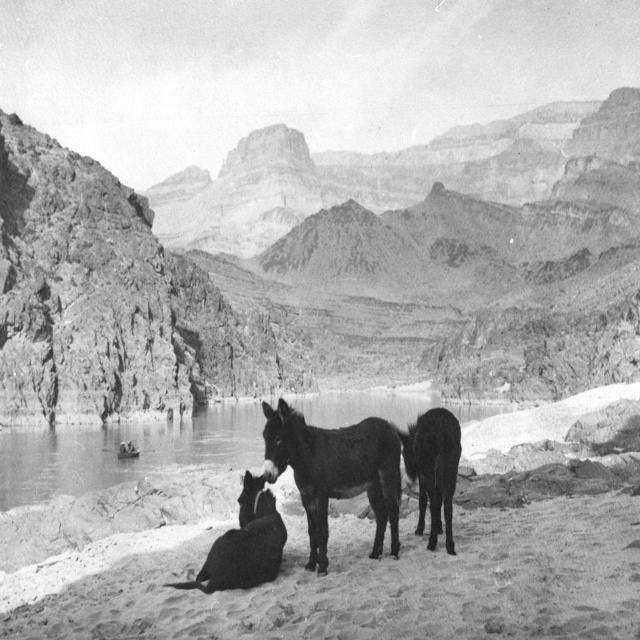Mule: (247, 403, 418, 570), (163, 470, 289, 591), (402, 407, 457, 557)
